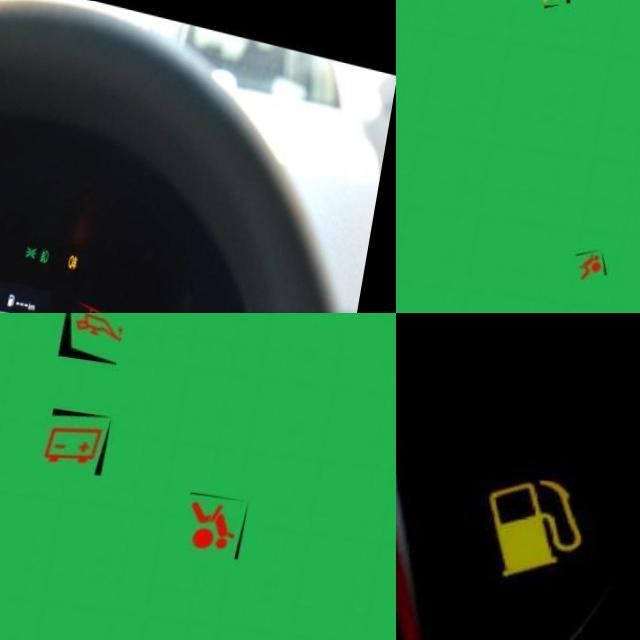Low fuel level: (466, 432, 622, 586)
